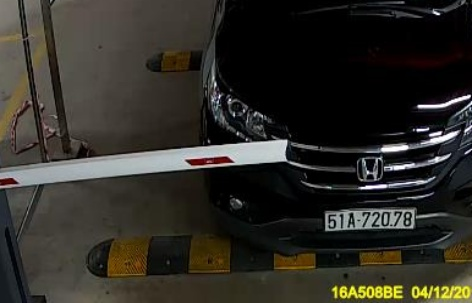plate: (318, 203, 417, 237)
